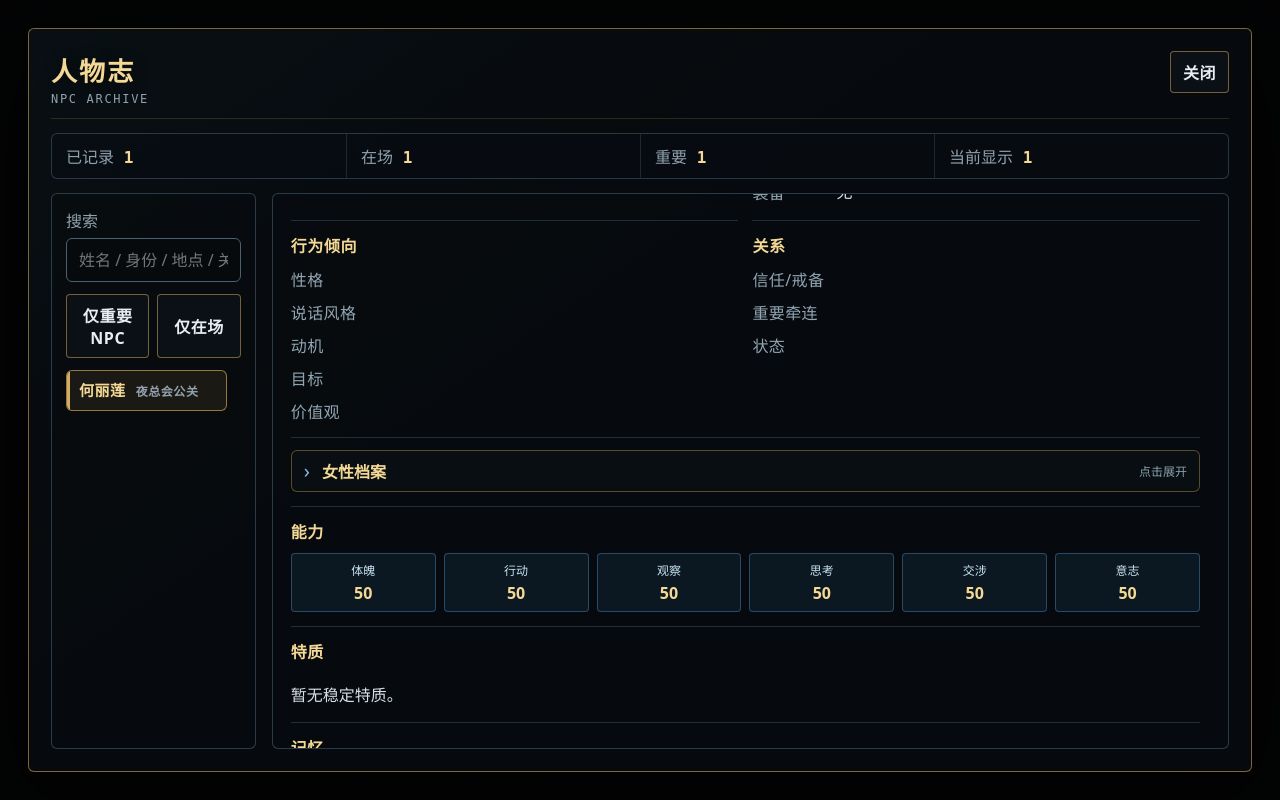
Test case: CharacterArchiveModal › keeps adult private female profile present but behind nested disclosure
(page scrolled)
What coordinates should you click on to do the following:
click the text "点击展开"
I would click on:
 (1163, 471)
Its box is [1139,462,1187,480].
(page scrolled)
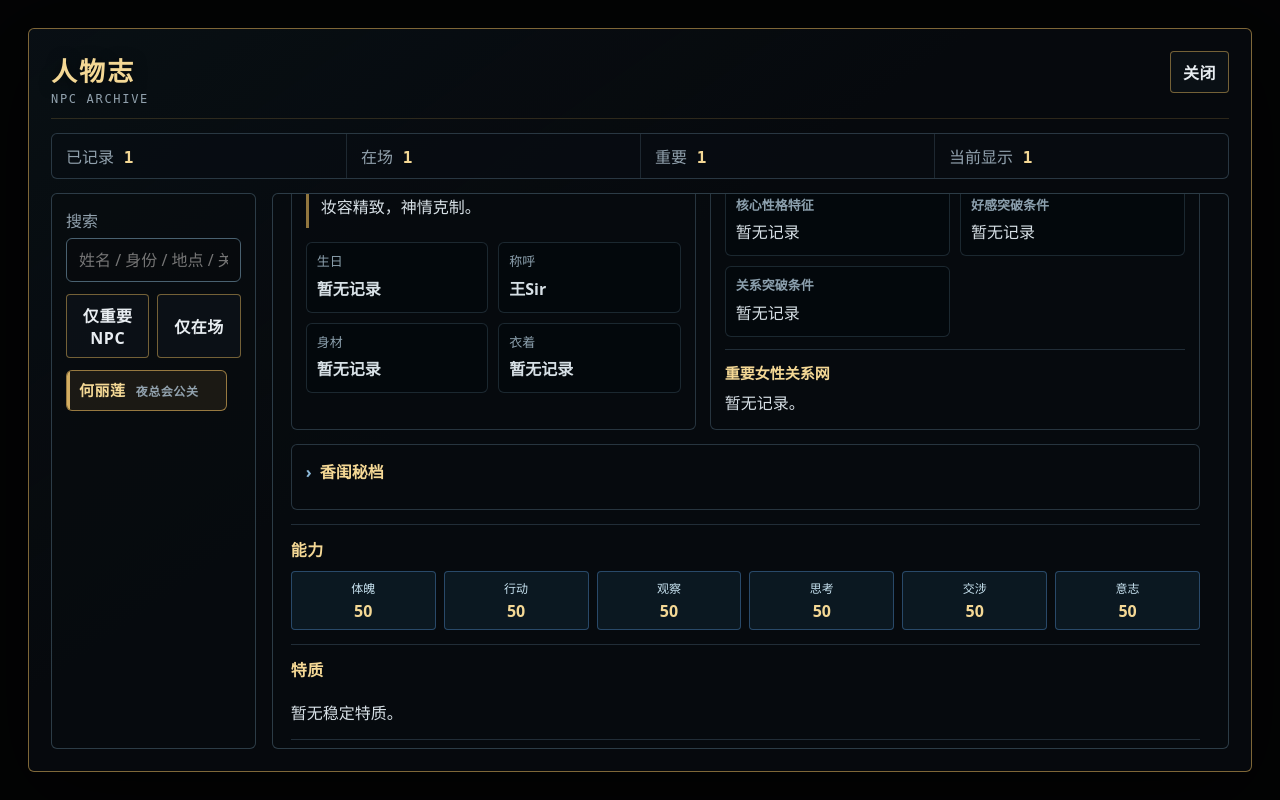
Expected: the heading "香闺秘档" is shown
What coordinates should you click on to do the following:
click the heading "香闺秘档"
I would click on:
 (352, 472)
Its box is [320,460,384,482].
(page scrolled)
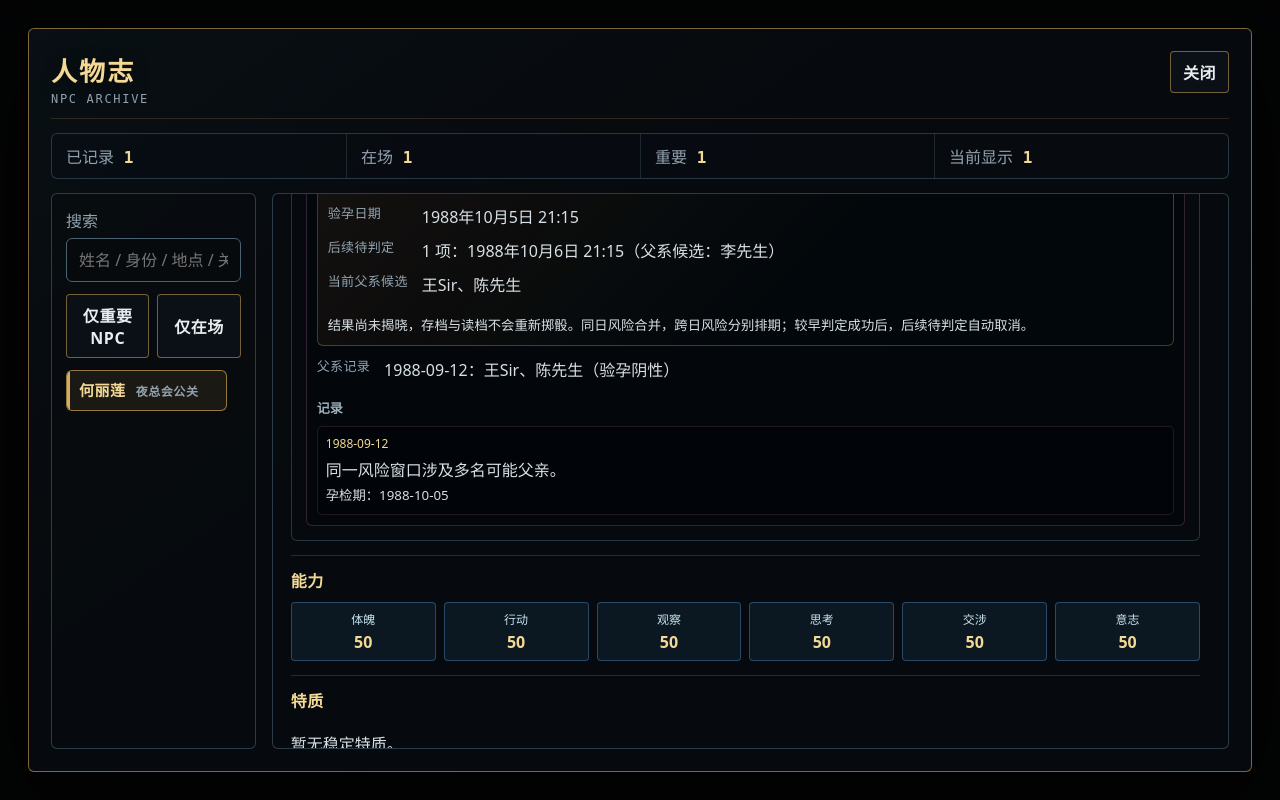
Expected: the text "1988年10月5日 21:15" is shown, [422,206,579,228]
Expected: the text "后续待判定" is shown, [328,238,394,256]
Expected: the text "1 项：1988年10月6日 21:15（父系候选：李先生）" is shown, [422,240,784,262]
